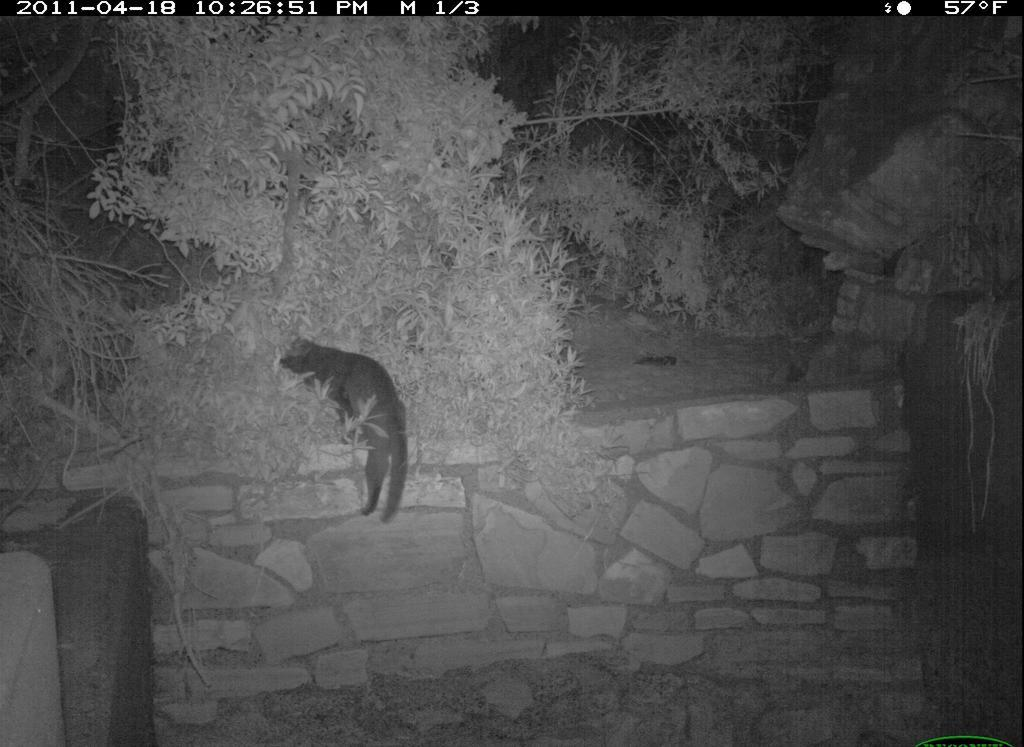cat: (272, 331, 411, 525)
